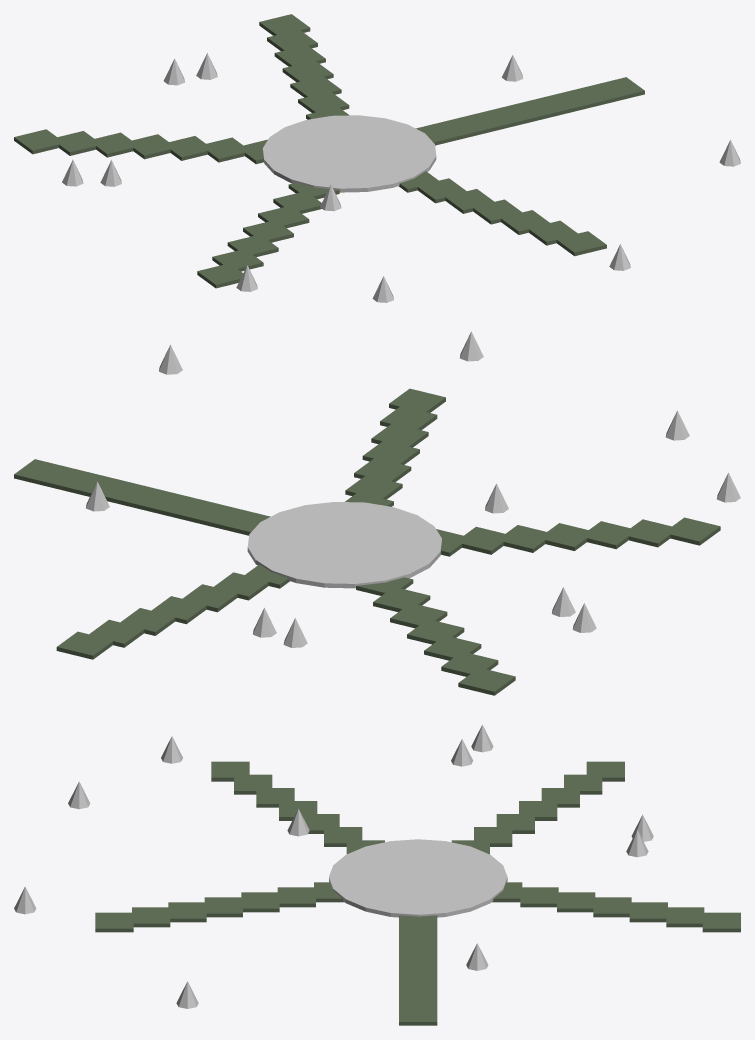
File: layout_main.obj
3 views of the same model, one above another, from view 1: azimuth 30°, elevation 25°; view 2: azimuth 150°, elevation 25°; view 3: azimuth 270°, elevation 25° (orthographic). The views are drawn at different scales.
Parts seen in each view (by area): view 1: paths, plaza, scatter; view 2: paths, plaza, scatter; view 3: paths, plaza, scatter.
Boxes of the visible parts, x1,y1,x2,y2 form: paths: (14, 14, 644, 288); plaza: (262, 115, 436, 192); scatter: (62, 53, 740, 302); paths: (14, 388, 720, 695); plaza: (247, 502, 441, 588); scatter: (86, 331, 740, 647); paths: (95, 761, 740, 1025); plaza: (329, 839, 507, 917); scatter: (14, 725, 653, 1008).
Bounding box in the file's own units: 50.02 × 3.08 × 56.94.
